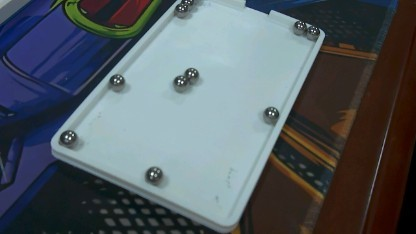ironball: (56, 126, 82, 149), (108, 70, 130, 96), (142, 164, 167, 185), (177, 63, 202, 84), (256, 103, 281, 123), (170, 73, 192, 95), (172, 0, 191, 23), (291, 21, 307, 42), (306, 21, 321, 43)
